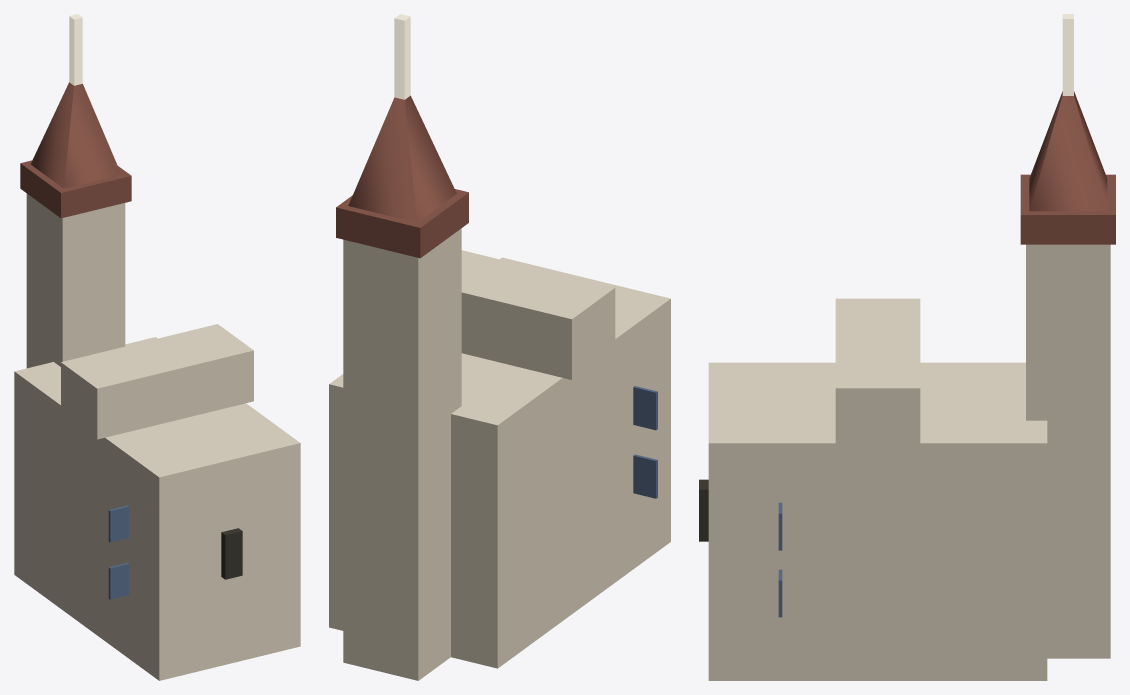
The model's file is stcharles.glb.
3 renders of one model, left to right at view 1: azimuth 30°, elevation 25°; view 2: azimuth 150°, elevation 25°; view 3: azimuth 270°, elevation 25°, orthographic. The views are drawn at different scales.
Visible parts, largest first — view 1: stcharles; view 2: stcharles; view 3: stcharles.
Part boxes in pixels (x1=…): stcharles: x1=14, y1=14, x2=300, y2=680; stcharles: x1=329, y1=14, x2=670, y2=680; stcharles: x1=699, y1=14, x2=1115, y2=680.
Bounding box in the file's own units: 0.2055 × 0.5848 × 0.3539.
